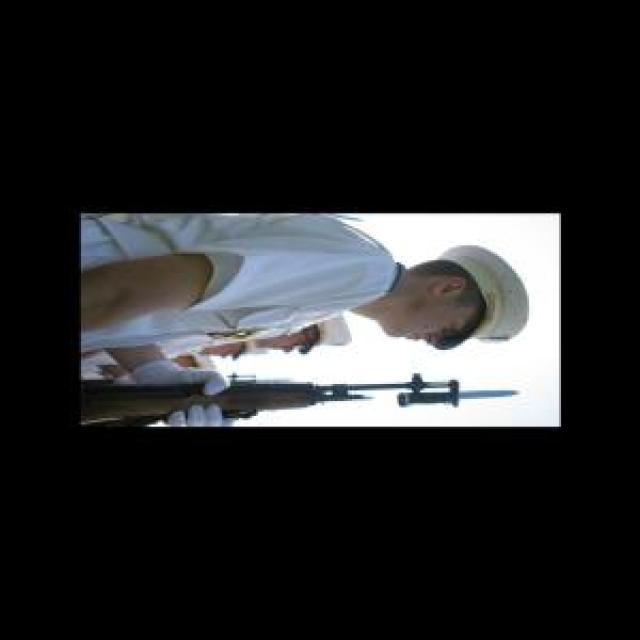knife: (390, 384, 529, 410)
